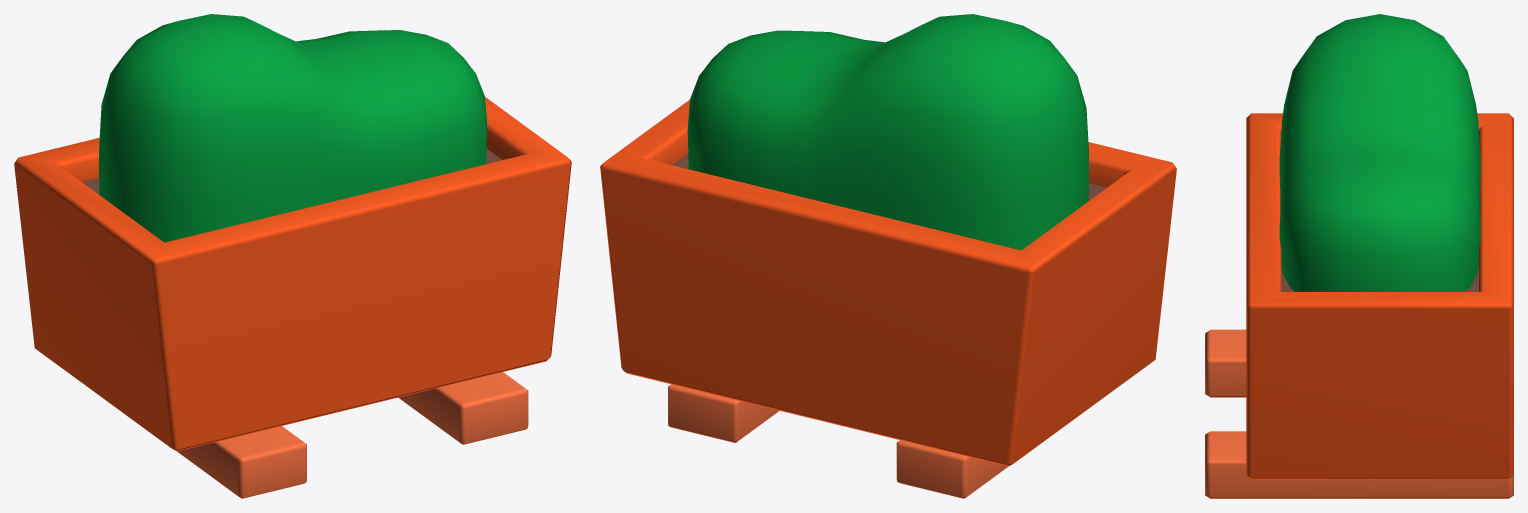
Rendered from Farm_11_Wall_Plant_1.glb.
The picture shows the model from 3 angles, left to right: view 1: azimuth 30°, elevation 25°; view 2: azimuth 150°, elevation 25°; view 3: azimuth 270°, elevation 25°; orthographic projection. The views are drawn at different scales.
Parts seen in each view (by area): view 1: Farm_11_Wall_Plant_1; view 2: Farm_11_Wall_Plant_1; view 3: Farm_11_Wall_Plant_1.
Part boxes in pixels (x1=…): Farm_11_Wall_Plant_1: x1=14, y1=14, x2=571, y2=498; Farm_11_Wall_Plant_1: x1=600, y1=14, x2=1176, y2=498; Farm_11_Wall_Plant_1: x1=1205, y1=14, x2=1513, y2=498.
Size of the model in its own units: 0.6913 by 0.6146 by 0.4678.
1 material, 1 textured.
